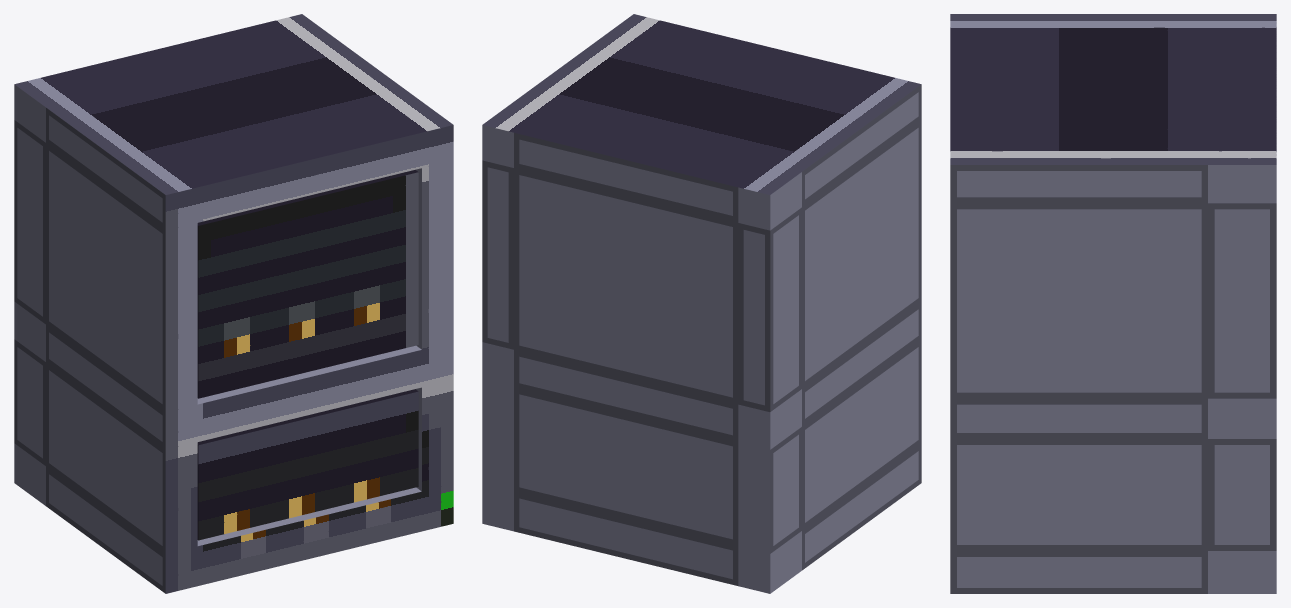
Rendered from boulder_smelter.glb.
3 views of the same model, side by side, from view 1: azimuth 30°, elevation 25°; view 2: azimuth 150°, elevation 25°; view 3: azimuth 270°, elevation 25° (orthographic). The views are drawn at different scales.
Visible parts, largest first — view 1: Furnace_Rims, Furnace_Windows_smelter; view 2: Furnace_Rims; view 3: Furnace_Rims.
Boxes of the visible parts, <box> form: Furnace_Rims: <box>14,14,453,593</box>; Furnace_Windows_smelter: <box>197,170,418,540</box>; Furnace_Rims: <box>482,14,921,593</box>; Furnace_Rims: <box>950,14,1276,593</box>.
Bounding box in the file's own units: 1.36 × 1.8 × 1.24.
1 material, 1 textured.
